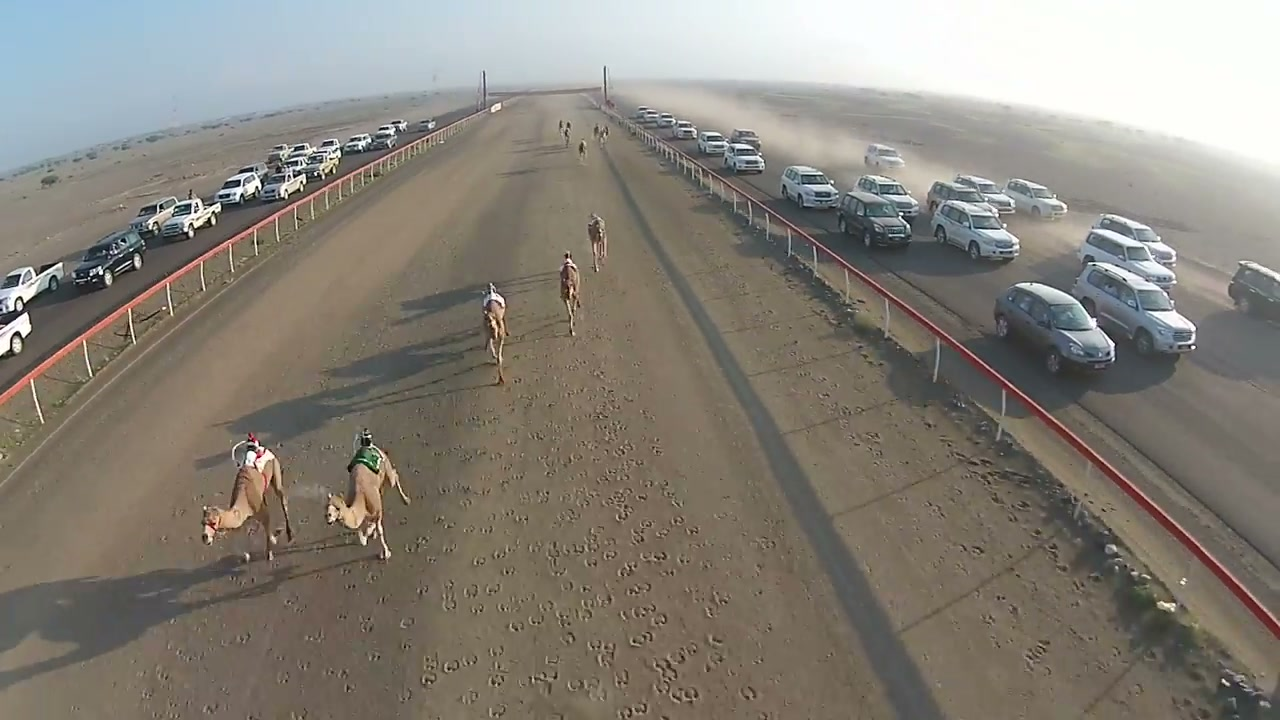animal_footprint: (193, 342, 760, 711)
